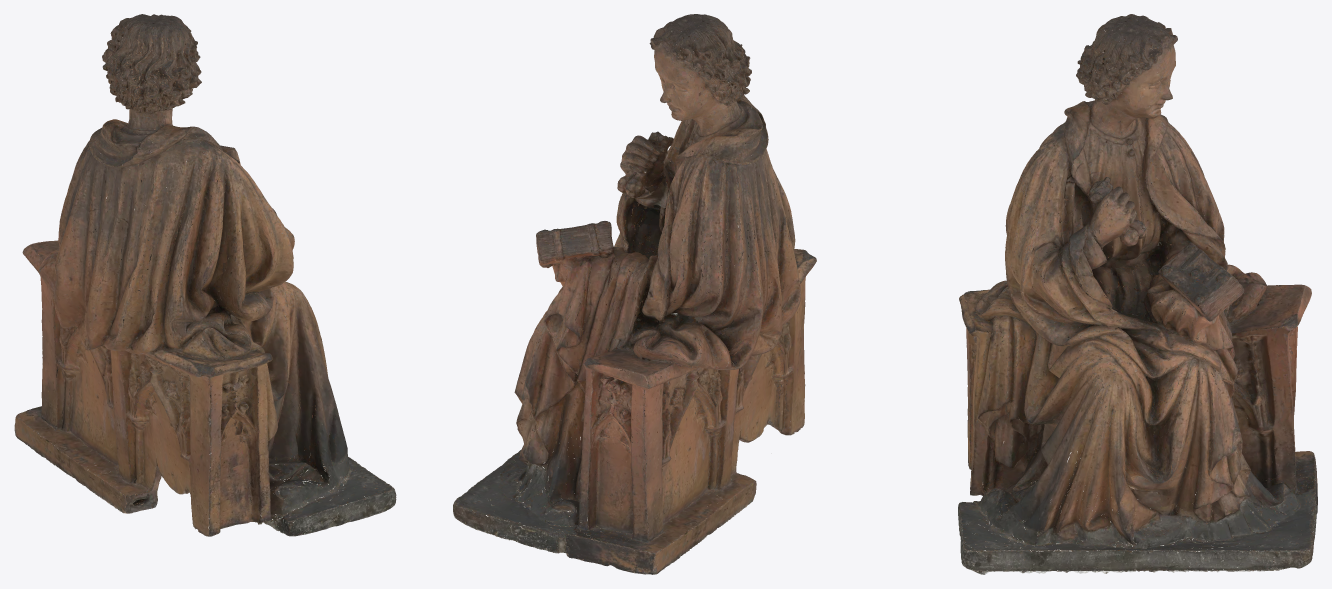
The model's file is preview.glb.
3 renders of one model, left to right at view 1: azimuth 30°, elevation 25°; view 2: azimuth 150°, elevation 25°; view 3: azimuth 270°, elevation 25°, orthographic.
Parts seen in each view (by area): view 1: Stereo textured mesh_Material0_0, Stereo textured mesh_Material2_0, Stereo textured mesh_Material1_0; view 2: Stereo textured mesh_Material2_0, Stereo textured mesh_Material0_0, Stereo textured mesh_Material1_0; view 3: Stereo textured mesh_Material2_0, Stereo textured mesh_Material0_0, Stereo textured mesh_Material1_0.
Part boxes in pixels (<box>): Stereo textured mesh_Material0_0: <box>14,16,394,535</box>; Stereo textured mesh_Material2_0: <box>15,14,396,536</box>; Stereo textured mesh_Material1_0: <box>15,14,396,536</box>; Stereo textured mesh_Material2_0: <box>453,14,816,574</box>; Stereo textured mesh_Material0_0: <box>453,14,815,573</box>; Stereo textured mesh_Material1_0: <box>453,14,816,574</box>; Stereo textured mesh_Material2_0: <box>959,14,1317,573</box>; Stereo textured mesh_Material0_0: <box>959,19,1317,574</box>; Stereo textured mesh_Material1_0: <box>958,14,1317,574</box>.
Size of the model in its own units: 524 by 983 by 882.
3 materials, 3 textured.
